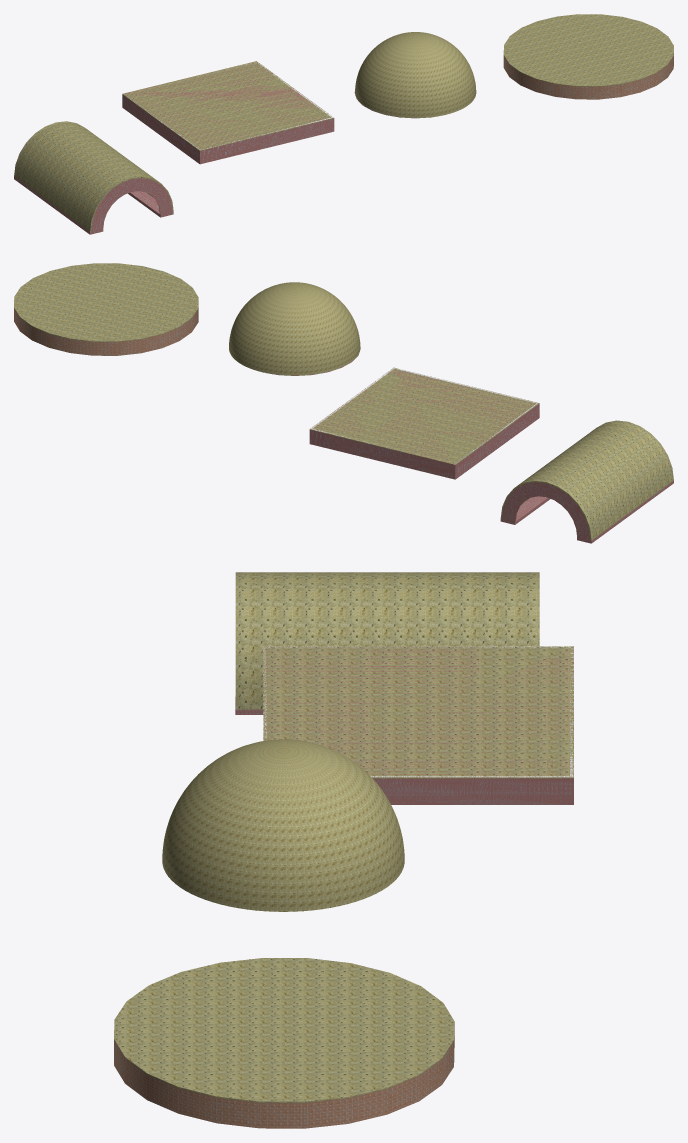
File: multipleObjWithWalls.dae
The picture shows the model from 3 angles, top to bottom: view 1: azimuth 30°, elevation 25°; view 2: azimuth 150°, elevation 25°; view 3: azimuth 270°, elevation 25°; orthographic projection. The views are drawn at different scales.
Parts seen in each view (by area): view 1: group_2, group_1, group_0, group_9, group_3, group_4, group_5, group_8; view 2: group_2, group_1, group_0, group_9, group_3 (×2), group_4, group_7, group_8; view 3: group_1, group_2, group_0, group_9, group_4, group_3 (×2).
Part boxes in pixels (x1,y1,x2,y2): group_2: (122,61,333,150); group_1: (503,14,673,86); group_0: (355,32,476,118); group_9: (14,121,173,231); group_3: (122,94,334,164); group_4: (503,54,673,99); group_5: (91,178,172,231); group_8: (128,191,173,217); group_2: (309,367,539,464); group_1: (14,263,198,341); group_0: (229,282,360,375); group_9: (500,420,673,540); group_3 (×2): (309,368,539,479); group_4: (14,308,198,355); group_7: (502,482,590,540); group_8: (500,496,549,524); group_1: (114,958,454,1102); group_2: (263,646,573,778); group_0: (162,739,404,911); group_9: (235,572,539,709); group_4: (114,1022,454,1128); group_3 (×2): (263,646,573,804).
Bounding box in the file's own units: 4383 × 1493 × 760.
9 materials, 7 textured.
